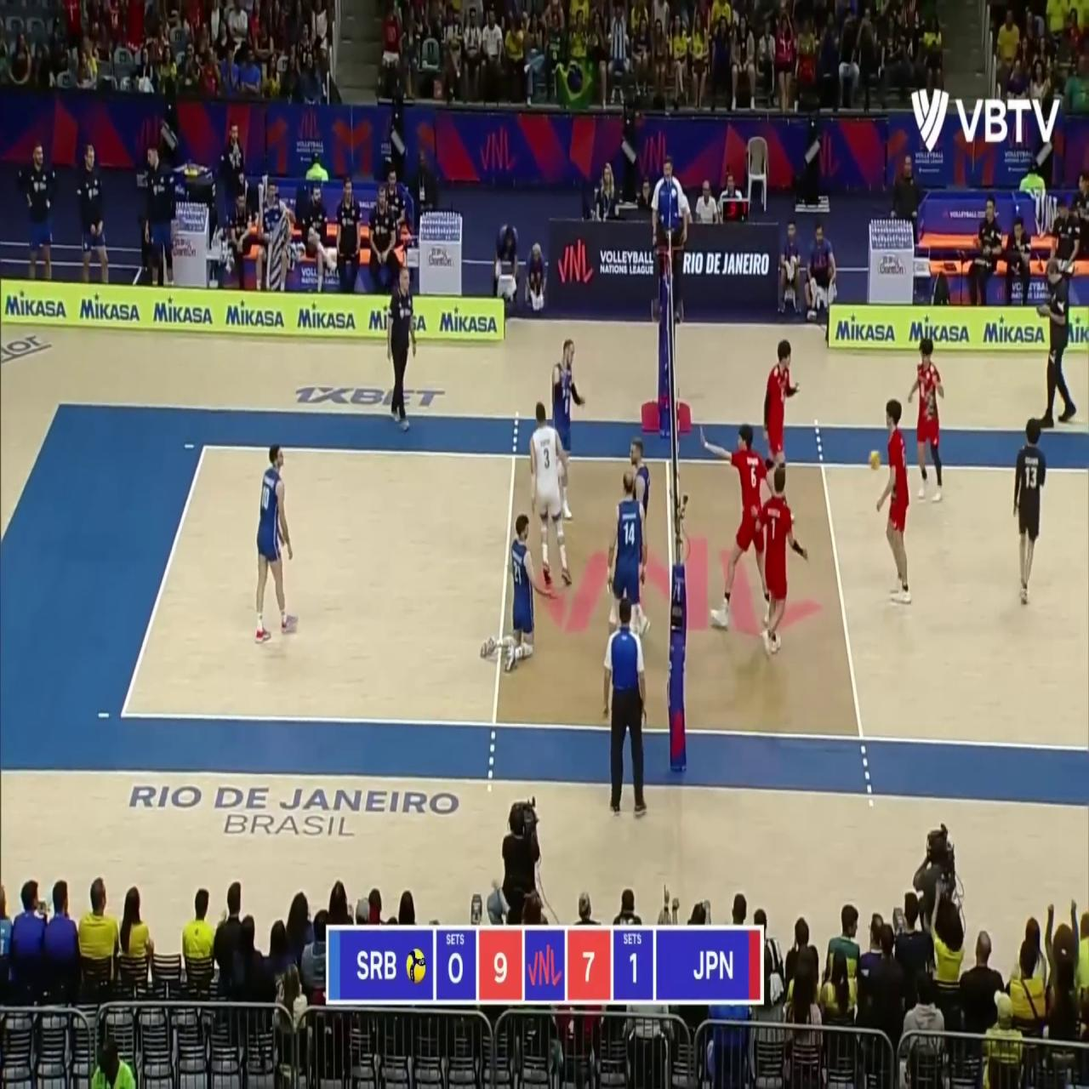ball: (868, 451, 881, 471)
